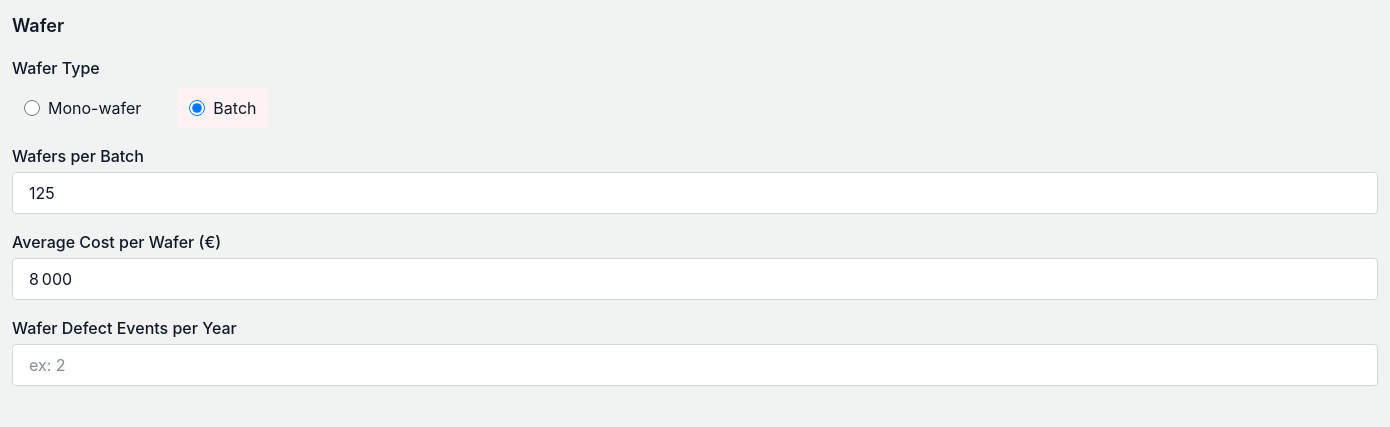
Scenario: WaferInputs › shows error for invalid wafer quantity input
Replace the text in the number field labelled "Wafers per Batch" with "0": {"x": 695, "y": 193} [12,172,1378,214]
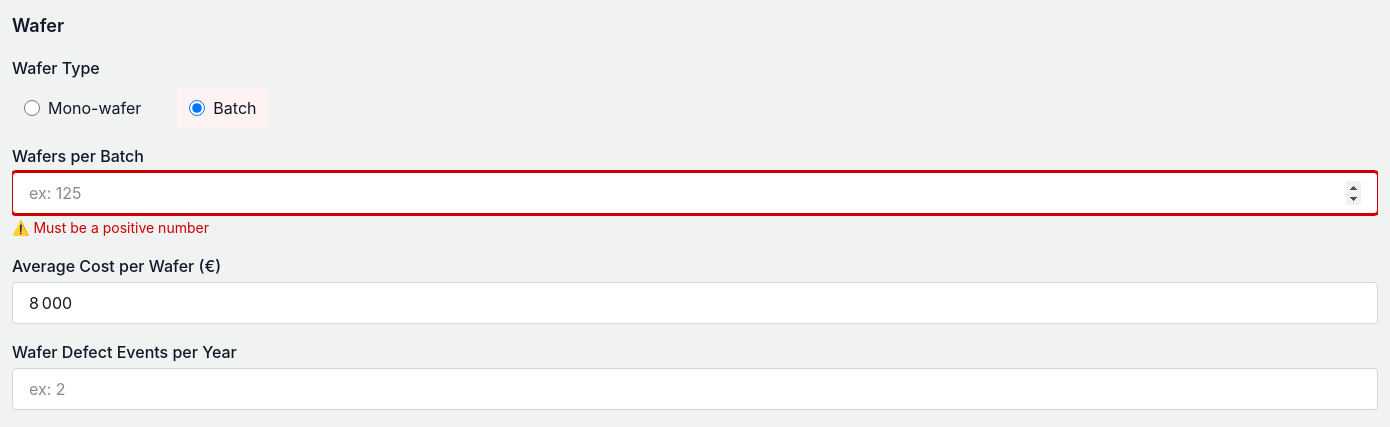
Expected: the text "⚠️ Must be a positive number" is shown, [12,219,209,236]
